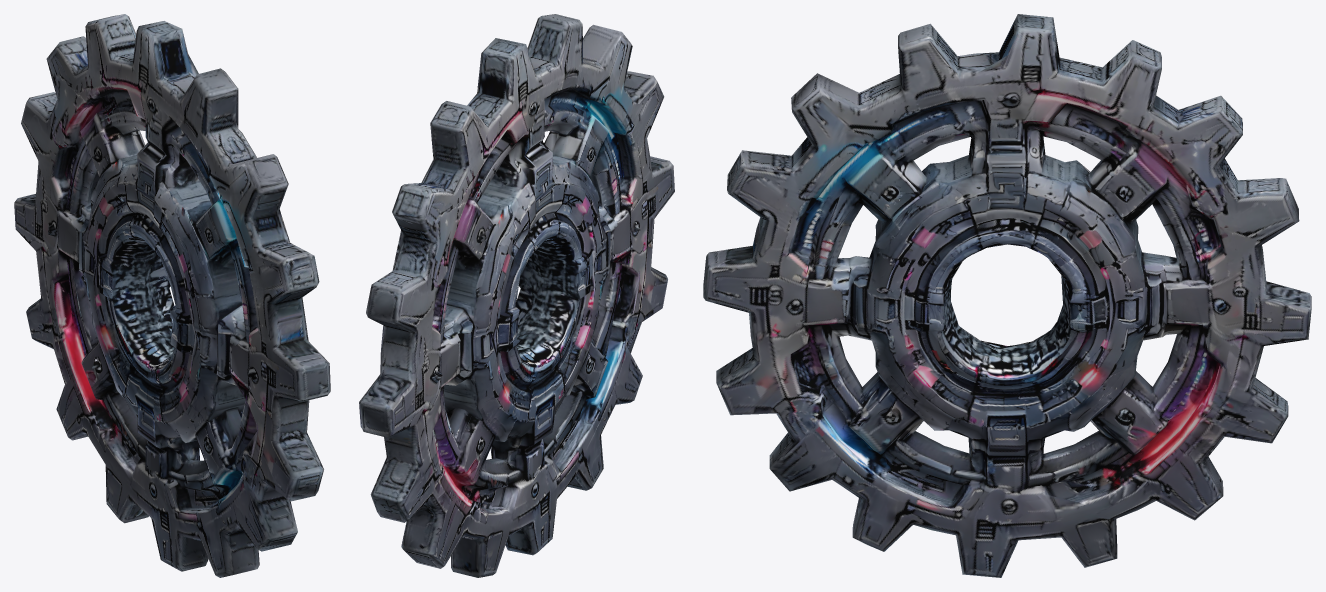
Rendered from tripo_convert_db86b35c-d2c8-4695-b347-00207fea80de.fbx.
3 renders of one model, left to right at view 1: azimuth 30°, elevation 25°; view 2: azimuth 150°, elevation 25°; view 3: azimuth 270°, elevation 25°, orthographic. The views are drawn at different scales.
Visible parts, largest first — view 1: tripo_node_db86b35c; view 2: tripo_node_db86b35c; view 3: tripo_node_db86b35c.
Part boxes in pixels (x1,y1,x2,y2): tripo_node_db86b35c: [14, 14, 330, 577]; tripo_node_db86b35c: [359, 14, 674, 577]; tripo_node_db86b35c: [703, 14, 1311, 577].
Size of the model in its own units: 0.1332 by 0.9987 by 1.
Materials: 1 (1 with a texture image).
